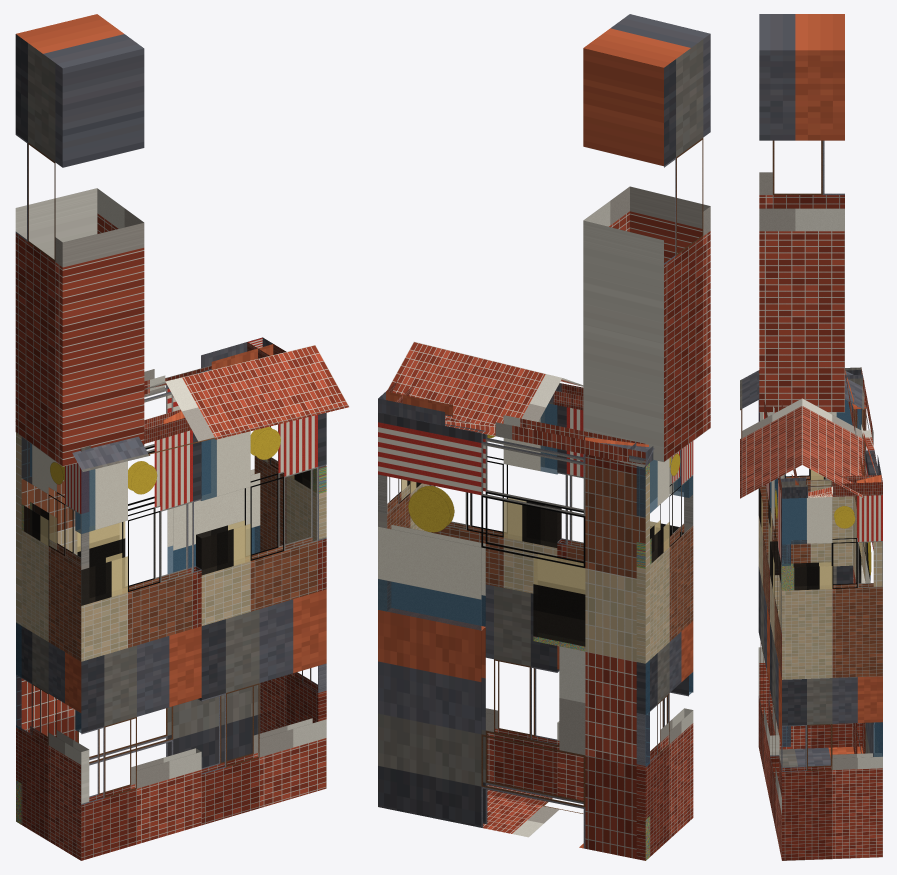
3 views of the same model, side by side, from view 1: azimuth 30°, elevation 25°; view 2: azimuth 150°, elevation 25°; view 3: azimuth 270°, elevation 25° (orthographic). The views are drawn at different scales.
Visible parts, largest first — view 1: 534916388__chimney_0_xb, 534916388__wall_0_xb, 534916388__wall_1_xb, 534916388__wall_4_xb, 534916388__wall_3_xb, 534916388_roof_-1_xb, 534916388__wall_2_xb, 534916388__wall_1_xf, 534916388__wall_0_xf, 534916388__wall_3_xf, 534916388__cornice_3, 534916388__wall_4_xf (+1 smaller); view 2: 534916388__wall_3_xb, 534916388__chimney_0_xb, 534916388__wall_4_xb, 534916388__wall_1_xb, 534916388_roof_1_xb, 534916388__wall_3_xf, 534916388__cornice_3, 534916388__wall_0_xb, 534916388__wall_1_xf, 534916388__base, 534916388__wall_2_xb, 534916388__wall_4_xf (+1 smaller); view 3: 534916388__wall_2_xb, 534916388__chimney_0_xb, 534916388__wall_4_xb, 534916388_roof_-1_xb, 534916388_roof_1_xb, 534916388__wall_1_xb, 534916388__wall_0_xb, 534916388__wall_3_xb, 534916388__wall_2_xf, 534916388__cornice_2, 534916388__base, 534916388__wall_1_xf (+3 smaller).
Part boxes in pixels (box(x1,y1,x2,y2)): 534916388__chimney_0_xb: box(15, 14, 144, 466); 534916388__wall_0_xb: box(75, 430, 201, 860); 534916388__wall_1_xb: box(196, 412, 326, 825); 534916388__wall_4_xb: box(16, 437, 89, 860); 534916388__wall_3_xb: box(16, 368, 268, 824); 534916388_roof_-1_xb: box(72, 345, 349, 471); 534916388__wall_2_xb: box(254, 425, 326, 733); 534916388__wall_1_xf: box(196, 439, 250, 574); 534916388__wall_0_xf: box(75, 469, 127, 732); 534916388__wall_3_xf: box(16, 522, 259, 823); 534916388__cornice_3: box(144, 337, 273, 395); 534916388__wall_4_xf: box(22, 437, 56, 545); 534916388__wall_3_xb: box(378, 412, 649, 860); 534916388__chimney_0_xb: box(583, 14, 710, 461); 534916388__wall_4_xb: box(636, 441, 693, 860); 534916388__wall_1_xb: box(429, 403, 561, 795); 534916388_roof_1_xb: box(387, 341, 654, 467); 534916388__wall_3_xf: box(378, 464, 649, 859); 534916388__cornice_3: box(378, 391, 653, 466); 534916388__wall_0_xb: box(557, 405, 693, 800); 534916388__wall_1_xf: box(504, 404, 561, 547); 534916388__base: box(483, 785, 583, 848); 534916388__wall_2_xb: box(378, 474, 433, 610); 534916388__wall_4_xf: box(637, 460, 672, 729); 534916388__wall_2_xb: box(781, 494, 882, 860); 534916388__chimney_0_xb: box(759, 14, 844, 412); 534916388__wall_4_xb: box(758, 399, 862, 749); 534916388_roof_-1_xb: box(740, 370, 802, 498); 534916388_roof_1_xb: box(802, 371, 864, 498); 534916388__wall_1_xb: box(770, 475, 790, 859); 534916388__wall_0_xb: box(758, 400, 779, 800); 534916388__wall_3_xb: box(852, 396, 882, 756); 534916388__wall_2_xf: box(781, 498, 831, 590); 534916388__cornice_2: box(780, 475, 882, 498); 534916388__base: box(779, 746, 862, 767); 534916388__wall_1_xf: box(770, 479, 790, 746).
Bounding box in the file's own units: 0.5078 × 1.4 × 0.2502.
1 material, 1 textured.
